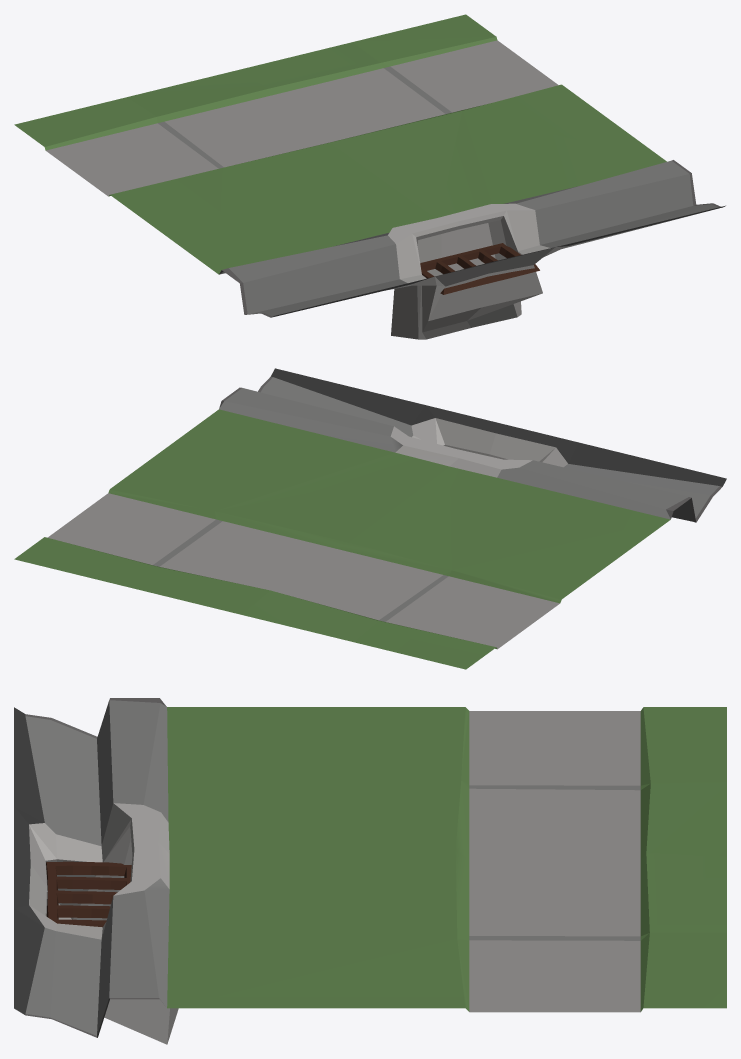
File: SM_Env_Sidewalk_Straight_02.fbx
3 views of the same model, one above another, from view 1: azimuth 30°, elevation 25°; view 2: azimuth 150°, elevation 25°; view 3: azimuth 270°, elevation 25° (orthographic). The views are drawn at different scales.
Visible parts, largest first — view 1: SM_Env_Sidewalk_Straight_02; view 2: SM_Env_Sidewalk_Straight_02; view 3: SM_Env_Sidewalk_Straight_02.
Boxes of the visible parts, x1=… form: SM_Env_Sidewalk_Straight_02: x1=14, y1=14, x2=725, y2=339; SM_Env_Sidewalk_Straight_02: x1=14, y1=368, x2=726, y2=669; SM_Env_Sidewalk_Straight_02: x1=14, y1=698, x2=726, y2=1044.
Size of the model in its own units: 500 by 120 by 500.
